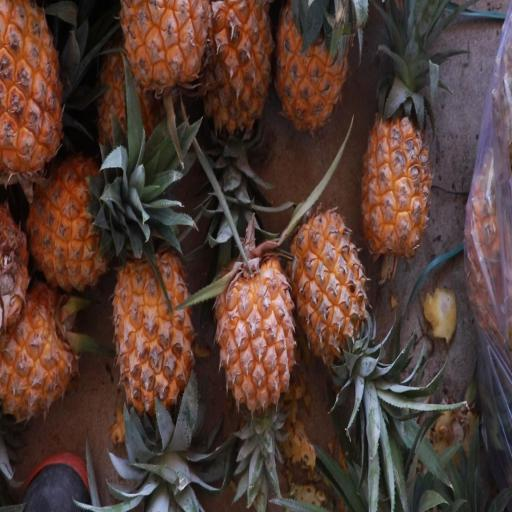Pineapple - v8 v1: (110, 244, 197, 455), (18, 150, 142, 296), (288, 198, 374, 392), (214, 241, 302, 424), (358, 74, 436, 263), (0, 0, 66, 206), (115, 0, 214, 128), (0, 275, 79, 427), (197, 0, 276, 137), (274, 0, 352, 137)
